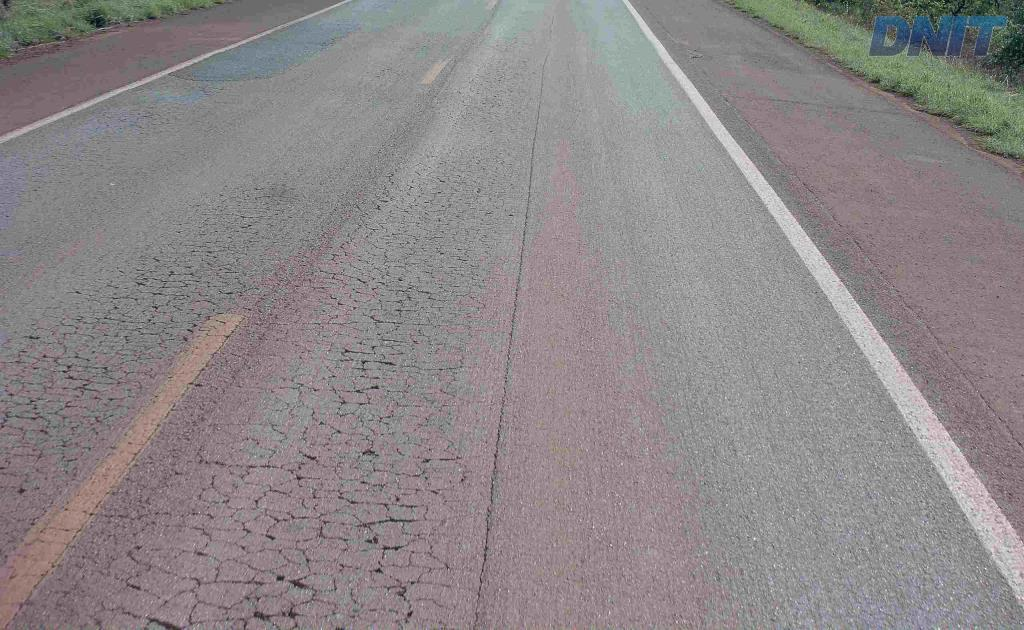crack: (232, 572, 306, 617)
